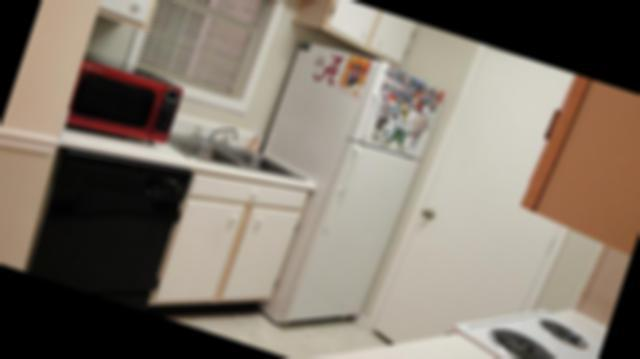Lavaplatos: (158, 101, 318, 206)
